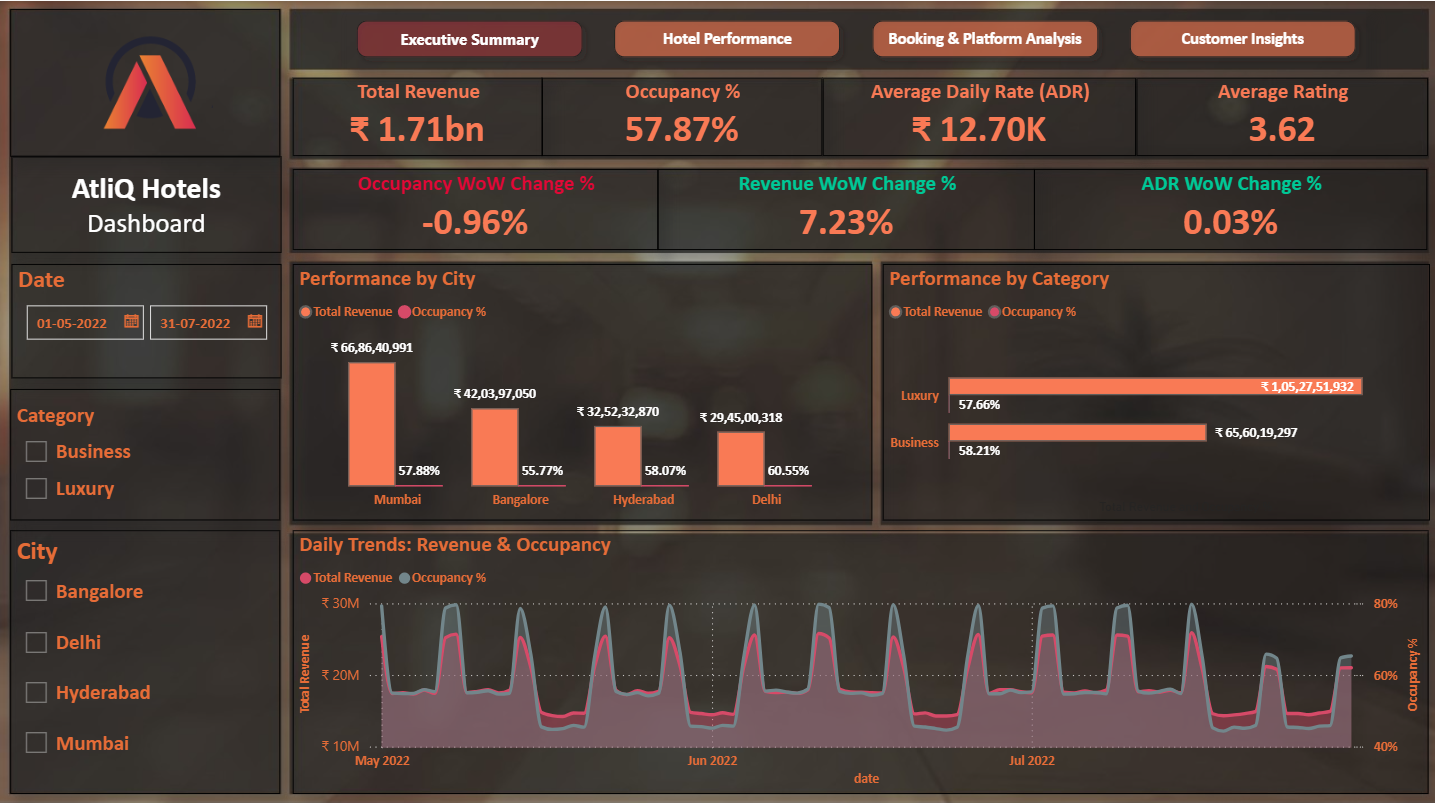

The page's visual inventory and layout, read from the dashboard file:
{"tool":"powerbi","page":{"name":"Executive Summary","canvas":[1280,720],"ordinal":0},"visuals":[{"type":"card","title":"Total Revenue","fields":{"Values":[" Measures.Total Revenue"]},"box":[260.7,70,222.3,70],"z":0},{"type":"card","title":"Occupancy %","fields":{"Values":[" Measures.Occupancy %"]},"box":[482.6,70,249.7,70],"z":1000},{"type":"card","title":"Average Daily Rate (ADR)","fields":{"Values":[" Measures.ADR(Average Daily Rate)"]},"box":[732.3,70,278.7,70],"z":2000},{"type":"card","title":"Average Rating","fields":{"Values":[" Measures.Average Rating"]},"box":[1011.3,70,259.3,70],"z":3000},{"type":"image","box":[9.7,8.4,240.1,131.5],"z":4000},{"type":"card","title":"Occupancy WoW Change %","fields":{"Values":[" Measures.Occupancy WoW Change %"]},"box":[260.6,150.8,324.5,72.4],"z":5000},{"type":"card","title":"Revenue WoW Change %","fields":{"Values":[" Measures.Revenue WoW Change %"]},"box":[585.1,150.8,335.4,72.4],"z":6000},{"type":"card","title":"ADR WoW Change %","fields":{"Values":[" Measures.ADR WoW Change %"]},"box":[920.5,150.8,349.9,72.4],"z":7000},{"type":"textbox","box":[10.9,139.9,240.1,85.7],"z":8000},{"type":"slicer","title":"Date","fields":{"Values":["dim_date.date"]},"box":[10.9,235.3,240.1,101.3],"z":9000},{"type":"slicer","title":"City","fields":{"Values":["dim_hotels.city"]},"box":[9.7,471.7,240.1,234],"z":10000},{"type":"slicer","title":"Category","fields":{"Values":["dim_hotels.category"]},"box":[9.7,346.2,240.1,117],"z":11000},{"type":"lineChart","title":"Daily Trends: Revenue & Occupancy","fields":{"Category":["dim_date.date"],"Y":[" Measures.Total Revenue"],"Y2":[" Measures.Occupancy %"]},"box":[260.6,471.7,1009.8,234],"z":12000},{"type":"clusteredColumnChart","title":"Performance by City","fields":{"Category":["dim_hotels.city"],"Y":[" Measures.Total Revenue"," Measures.Occupancy %"]},"box":[260.6,235.3,515.2,228],"z":13000},{"type":"clusteredBarChart","title":"Performance by Category","fields":{"Category":["dim_hotels.category"],"Y":[" Measures.Total Revenue"," Measures.Occupancy %"]},"box":[785.4,235.3,486.2,228],"z":14000},{"type":"pageNavigator","box":[308.8,9.7,906,51.9],"z":15000}]}

Visuals, with their boxes in screenshot pixels (x1, y1, x2, y2), scaled from the page's 1280x720 canvas onto the 1435x803 screenshot:
"Total Revenue" card: [292,78,541,156]
"Occupancy %" card: [541,78,821,156]
"Average Daily Rate (ADR)" card: [821,78,1133,156]
"Average Rating" card: [1134,78,1424,156]
image: [11,9,280,156]
"Occupancy WoW Change %" card: [292,168,656,249]
"Revenue WoW Change %" card: [656,168,1032,249]
"ADR WoW Change %" card: [1032,168,1424,249]
textbox: [12,156,281,252]
"Date" slicer: [12,262,281,375]
"City" slicer: [11,526,280,787]
"Category" slicer: [11,386,280,517]
"Daily Trends: Revenue & Occupancy" lineChart: [292,526,1424,787]
"Performance by City" clusteredColumnChart: [292,262,870,517]
"Performance by Category" clusteredBarChart: [881,262,1426,517]
pageNavigator: [346,11,1362,69]
